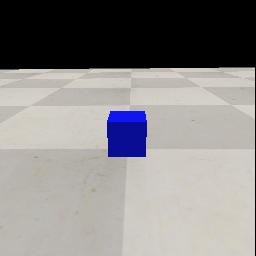box: (107, 111, 147, 157)
